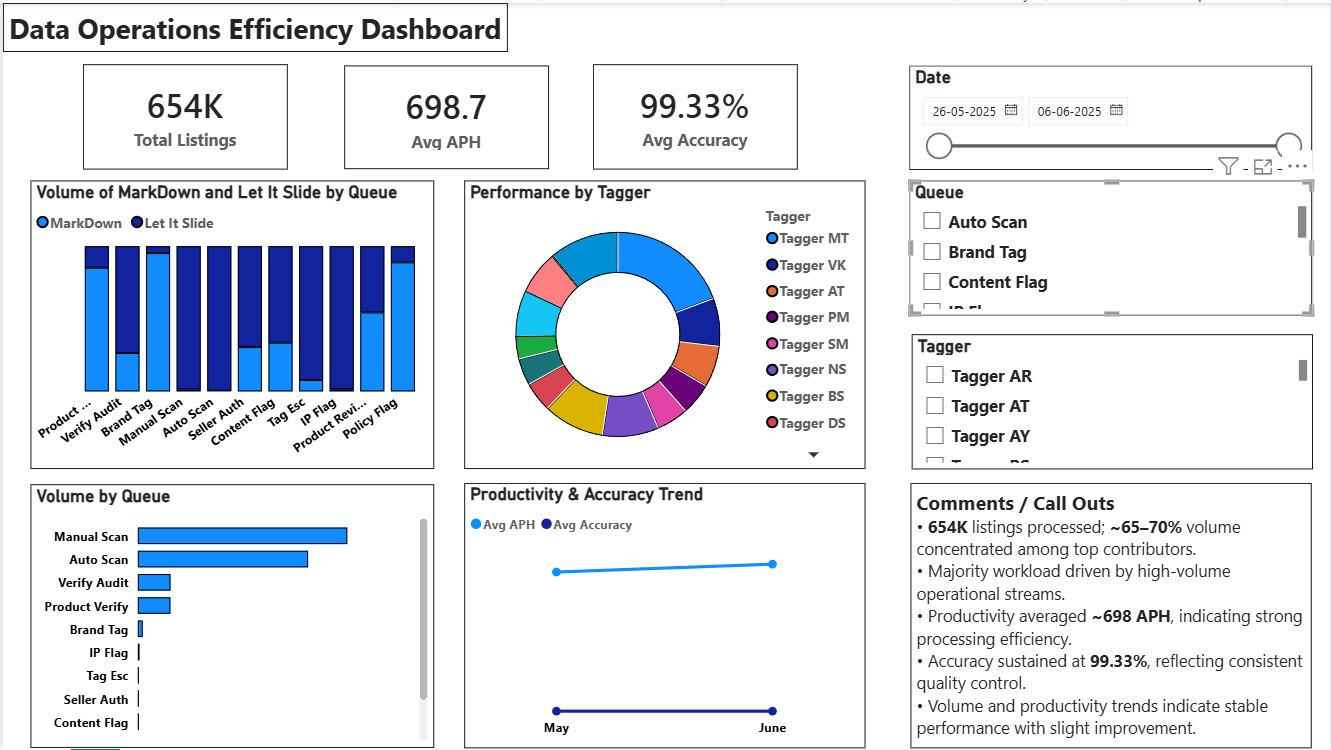

Layout of this report page (visuals, bound fields, positions):
{"tool":"powerbi","page":{"name":"Overview","canvas":[1280,720],"ordinal":0},"visuals":[{"type":"cardVisual","fields":{"Data":["Sum(MasterSheet.Count Processed)"]},"box":[77.2,59.1,197.9,101.3],"z":0},{"type":"cardVisual","fields":{"Data":["MasterSheet.Avg APH"]},"box":[329.4,60.3,197.9,100.1],"z":1000},{"type":"cardVisual","fields":{"Data":["MasterSheet.Avg Accuracy"]},"box":[569.4,59.1,197.9,101.3],"z":2000},{"type":"textbox","box":[0,0,487.4,47.1],"z":3000},{"type":"lineChart","title":"Productivity & Accuracy Trend","fields":{"Category":["MasterSheet.Date.Variation.Date Hierarchy.Month","MasterSheet.Date.Variation.Date Hierarchy.Day"],"Y":["MasterSheet.Avg APH","MasterSheet.Avg Accuracy"]},"box":[445.2,463.3,387.3,255.8],"z":4000},{"type":"clusteredBarChart","title":"Volume by Queue","fields":{"Category":["MasterSheet.Queue"],"Y":["Sum(MasterSheet.Count Processed)"]},"box":[26.5,464.5,389.7,254.6],"z":5000},{"type":"donutChart","title":"Performance by Tagger","fields":{"Category":["MasterSheet.Tagger"],"Y":["Sum(MasterSheet.Accuracy)","Sum(MasterSheet.APH)"]},"box":[445.2,171.3,387.3,278.7],"z":6000},{"type":"slicer","title":"Date","fields":{"Values":["MasterSheet.Date"]},"box":[875.3,59.8,388.7,100.6],"z":7000},{"type":"slicer","title":"Queue","fields":{"Values":["MasterSheet.Queue"]},"box":[875.3,171.2,388.7,130.5],"z":8000},{"type":"textbox","box":[876.2,463.8,387.5,256.2],"z":9000},{"type":"hundredPercentStackedColumnChart","title":"Volume of MarkDown and Let It Slide by Queue","fields":{"Category":["MasterSheet.Queue"],"Y":["Sum(MasterSheet.MarkDown )","Sum(MasterSheet.Let It Slide)"]},"box":[26.5,171.3,389.7,278.7],"z":10000},{"type":"slicer","title":"Tagger","fields":{"Values":["MasterSheet.Tagger"]},"box":[876.6,319.4,387.3,130.5],"z":11000}]}

Visuals, with their boxes in screenshot pixels (x1, y1, x2, y2), scaled from the page's 1280x720 canvas onto the 1331x750 screenshot:
cardVisual - Sum(MasterSheet.Count Processed): [x1=80, y1=62, x2=286, y2=167]
cardVisual - MasterSheet.Avg APH: [x1=343, y1=63, x2=548, y2=167]
cardVisual - MasterSheet.Avg Accuracy: [x1=592, y1=62, x2=798, y2=167]
textbox: [x1=0, y1=0, x2=507, y2=49]
"Productivity & Accuracy Trend" lineChart: [x1=463, y1=483, x2=866, y2=749]
"Volume by Queue" clusteredBarChart: [x1=28, y1=484, x2=433, y2=749]
"Performance by Tagger" donutChart: [x1=463, y1=178, x2=866, y2=469]
"Date" slicer: [x1=910, y1=62, x2=1314, y2=167]
"Queue" slicer: [x1=910, y1=178, x2=1314, y2=314]
textbox: [x1=911, y1=483, x2=1314, y2=749]
"Volume of MarkDown and Let It Slide by Queue" hundredPercentStackedColumnChart: [x1=28, y1=178, x2=433, y2=469]
"Tagger" slicer: [x1=912, y1=333, x2=1314, y2=469]
